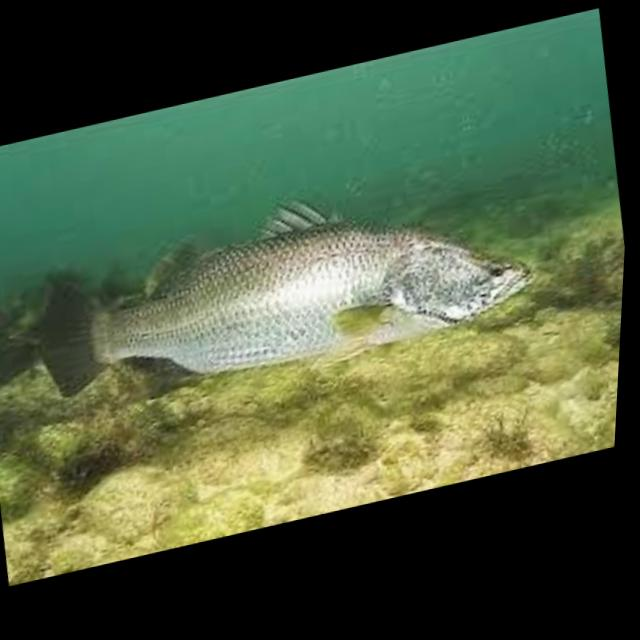Seabass: (24, 142, 545, 423)
